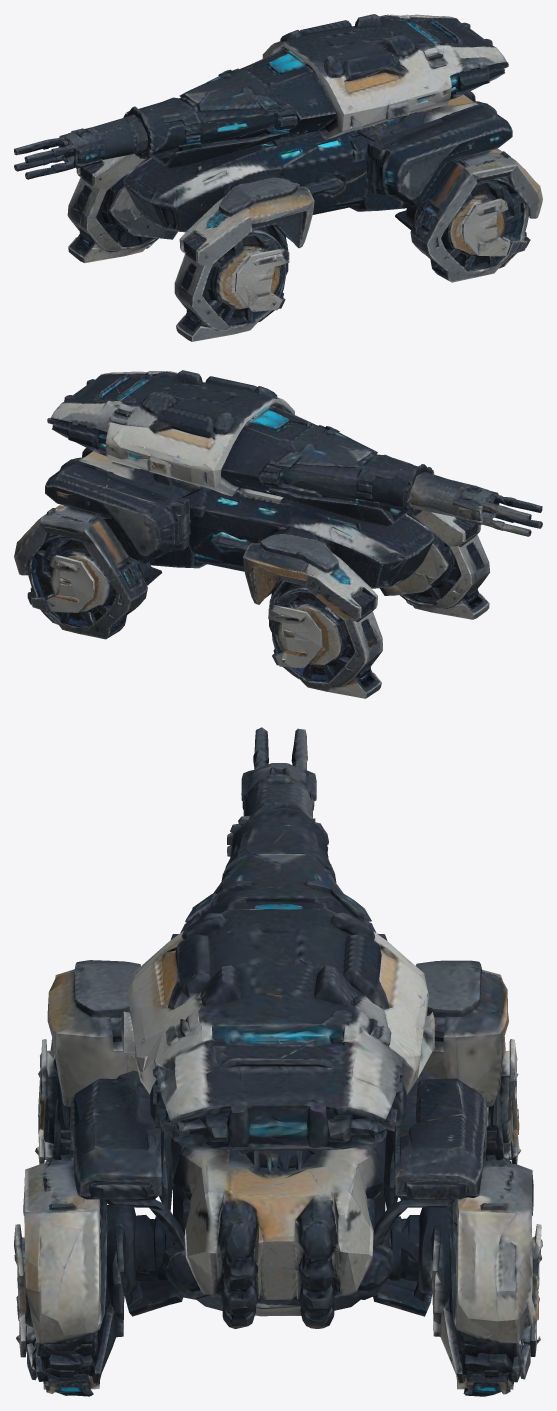
File: v_siege.glb
3 renders of one model, top to bottom at view 1: azimuth 30°, elevation 25°; view 2: azimuth 150°, elevation 25°; view 3: azimuth 270°, elevation 25°, orthographic. The views are drawn at different scales.
Visible parts, largest first — view 1: mesh_0; view 2: mesh_0; view 3: mesh_0.
Boxes of the visible parts, <box> form: mesh_0: <box>14,14,542,341</box>; mesh_0: <box>14,370,542,698</box>; mesh_0: <box>14,727,542,1396</box>.
Bounding box in the file's own units: 1.9 × 0.8327 × 1.05.
1 material, 1 textured.
